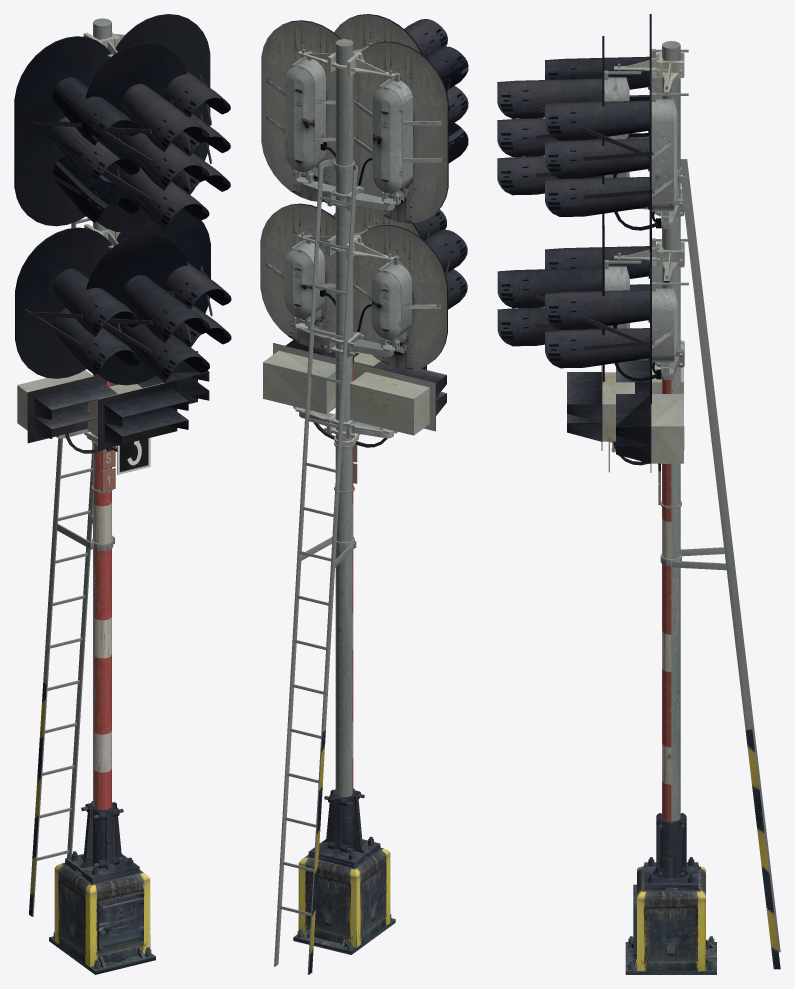
File: sssr_5svet_nove.obj
The picture shows the model from 3 angles, left to right: view 1: azimuth 30°, elevation 25°; view 2: azimuth 150°, elevation 25°; view 3: azimuth 270°, elevation 25°; orthographic projection. The views are drawn at different scales.
Parts seen in each view (by area): view 1: stit_5l, stit_5, stoz_5_zaklad, stit_5r, stoz_5odj_nater, stit_5_pruhy, stit_5_pruhy_L, stit_5_pruhy_R, stoz_5odj_stozar, stoz_5_30, stoz_5odj_cisla; view 2: stit_5l, stit_5r, stoz_5_zaklad, stoz_5odj_stozar, stit_5_pruhy_L, stit_5_pruhy_R, stit_5, stoz_5odj_nater; view 3: stit_5r, stoz_5_zaklad, stit_5, stoz_5odj_stozar, stit_5l, stit_5_pruhy_R, stit_5_pruhy, stoz_5odj_nater, stit_5_pruhy_L.
Part boxes in pixels (x1,y1,x2,y2): stit_5l: (14, 32, 140, 378); stit_5: (84, 35, 209, 385); stoz_5_zaklad: (29, 218, 155, 974); stit_5r: (111, 14, 231, 347); stoz_5odj_nater: (94, 374, 111, 809); stit_5_pruhy: (87, 380, 188, 451); stit_5_pruhy_L: (17, 370, 117, 453); stit_5_pruhy_R: (108, 351, 209, 450); stoz_5odj_stozar: (93, 18, 111, 807); stoz_5_30: (118, 437, 150, 474); stoz_5odj_cisla: (91, 441, 115, 493); stit_5l: (333, 41, 468, 369); stit_5r: (260, 20, 360, 353); stoz_5_zaklad: (274, 159, 395, 974); stoz_5odj_stozar: (335, 39, 353, 797); stit_5_pruhy_L: (333, 361, 446, 447); stit_5_pruhy_R: (263, 340, 359, 439); stit_5: (333, 14, 447, 361); stoz_5odj_nater: (352, 357, 353, 794); stit_5r: (545, 58, 688, 403); stoz_5_zaklad: (625, 159, 780, 974); stit_5: (497, 36, 682, 381); stoz_5odj_stozar: (662, 41, 680, 821); stit_5l: (545, 14, 688, 378); stit_5_pruhy_R: (616, 394, 684, 472); stit_5_pruhy: (567, 365, 649, 465); stoz_5odj_nater: (662, 379, 671, 821); stit_5_pruhy_L: (616, 360, 684, 433).
Size of the model in its own units: 0.9758 by 4.44 by 1.24.
